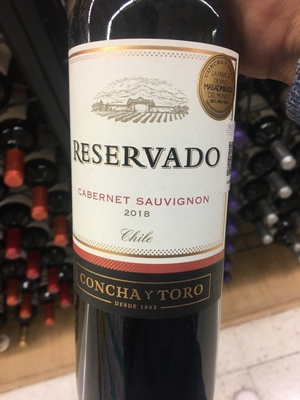reservado cabernet sauvignon: (52, 4, 248, 400)
